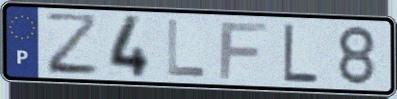4: (106, 13, 153, 81)
8: (335, 23, 381, 88)
F: (217, 21, 270, 81)
L: (165, 18, 209, 79), (281, 21, 321, 86)
Z: (42, 12, 102, 78)
